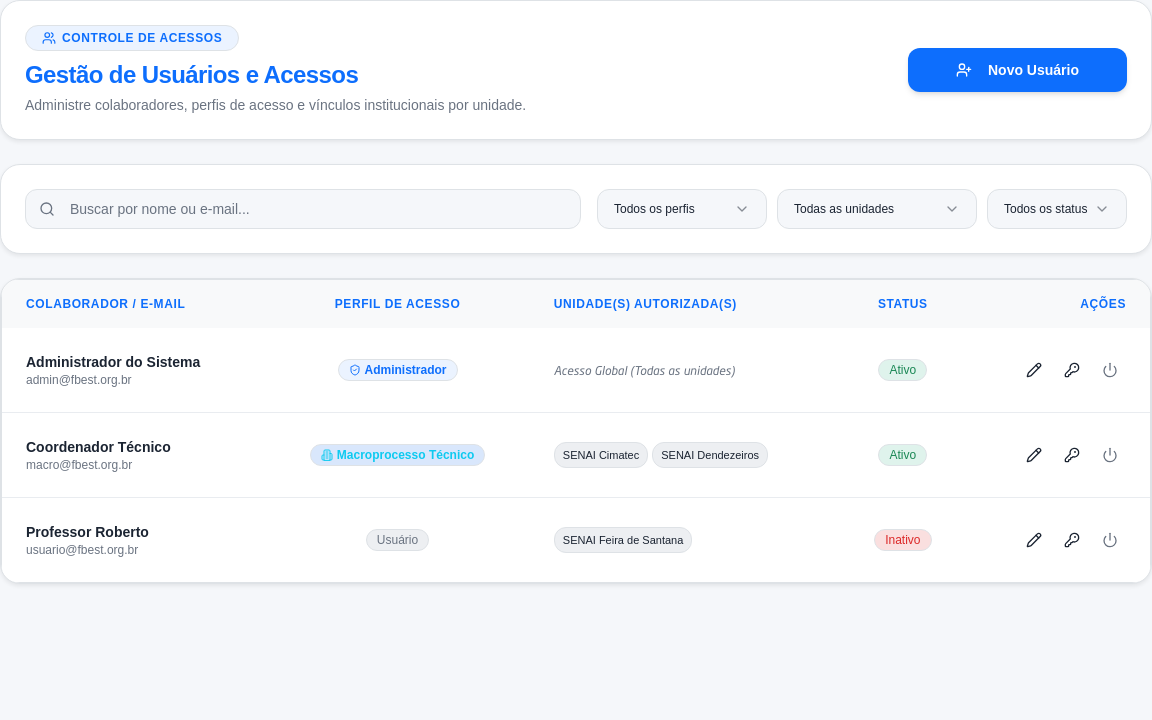
Test case: PHASE 6.6 — Gestão de Usuários, Perfis e Acessos no Frontend › 8. Abre diálogo de confirmação ao clicar no botão de desativação
This screenshot has width=1152, height=720.
Expected: the text "Administrador do Sistema" is shown, [26,354,200,370]
Click the button titled "Desativar Usuário" at (1110, 370), box [1094,354,1126,386]
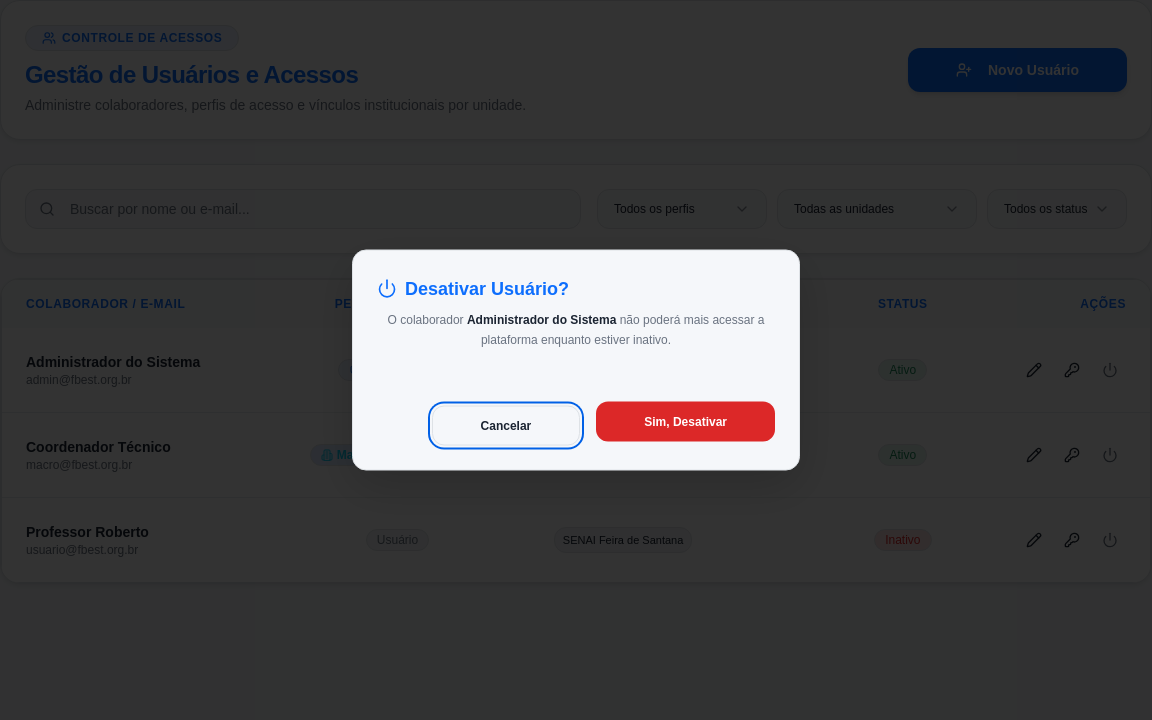
Now the heading "Desativar Usuário?" is shown, box [377,278,569,298]
